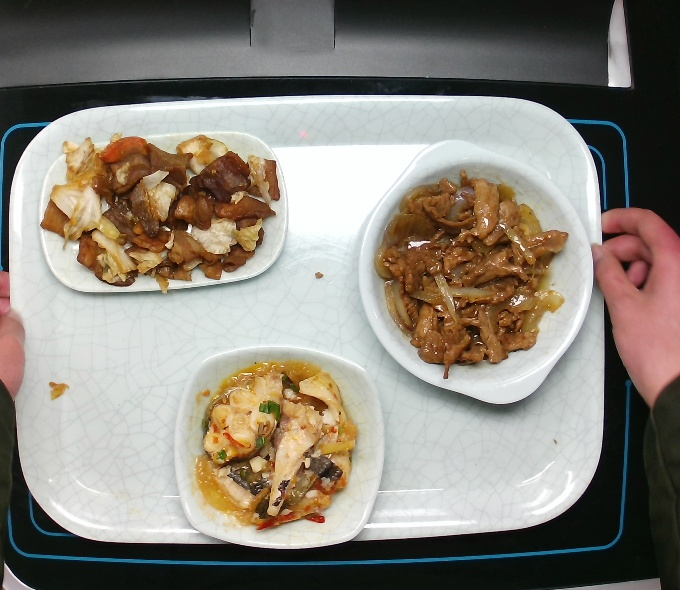wcq-DuoJiaoYuKuai: (197, 366, 360, 530)
wcq-PaoCaiRouPian: (39, 132, 284, 286)
wcq-YangCongRouPian: (380, 175, 567, 368)
